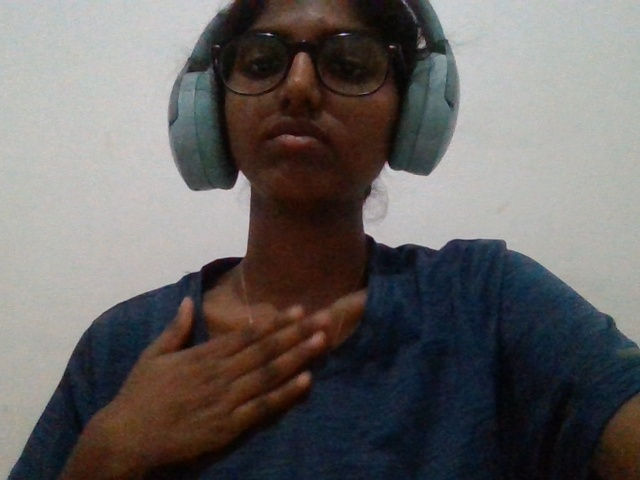Please: (57, 271, 349, 480)
